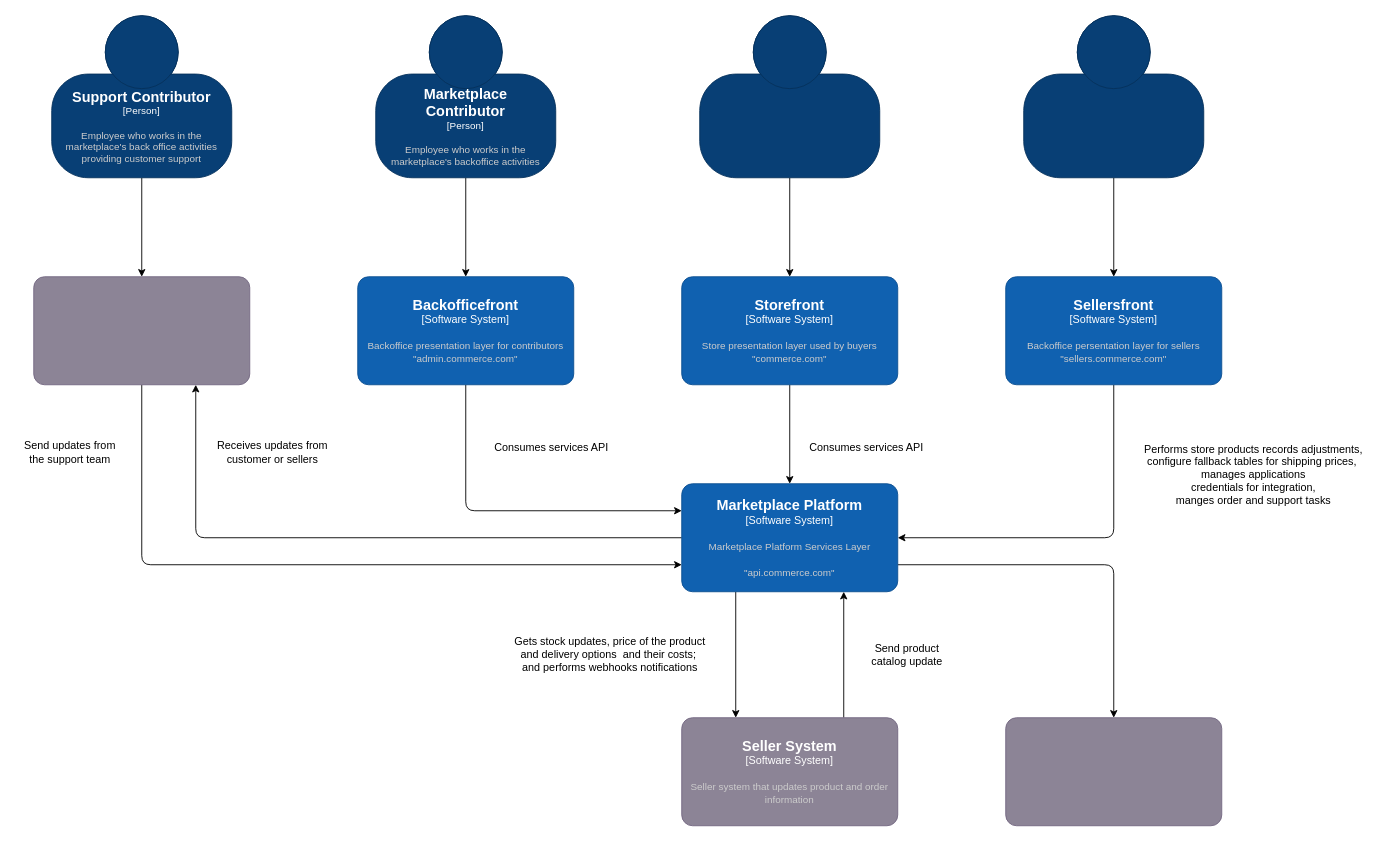
Image size: 1390x842. Some labels were removed from this diagram. The shapes that lost their labels are listed below. From the top down, each one's centre as x and y in pixels, then its label:
the point at 789,96: Buyer [Person] Customer who purchases online
the point at 1113,96: Seller [Person] Seller who sells products on the marketplace
the point at 141,330: Customer Service System [Software System] Customer service and support system
the point at 1113,771: Payment Gateway [Software System] Process order payments
